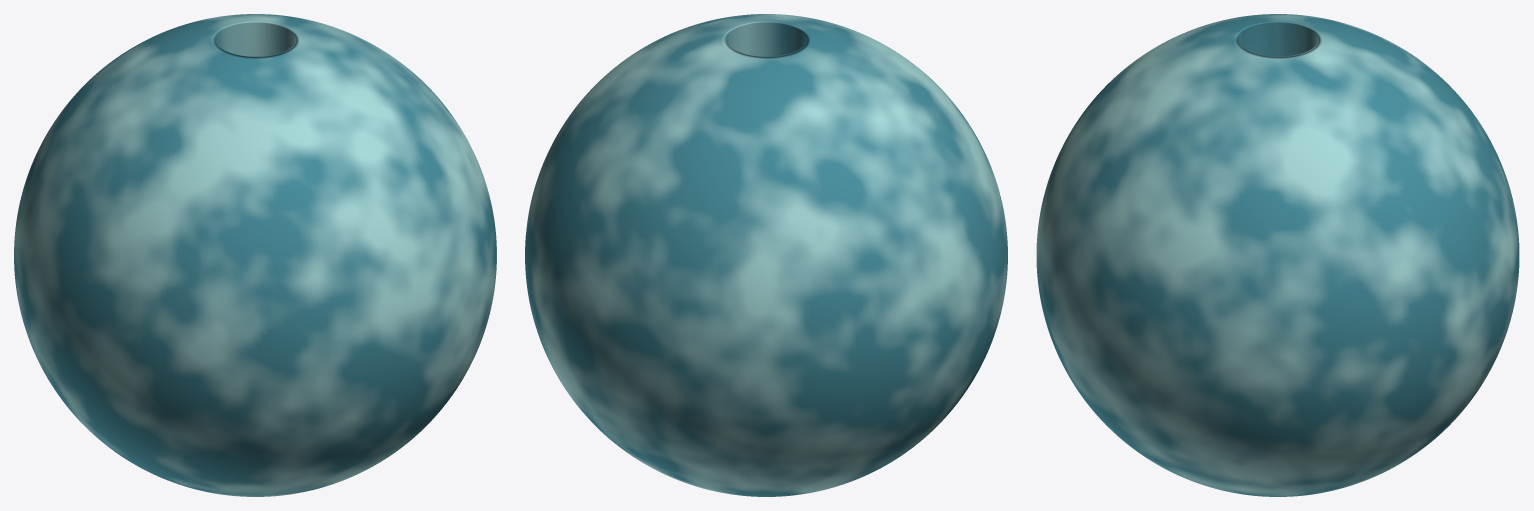
Rendered from round-6mm.glb.
The picture shows the model from 3 angles, left to right: view 1: azimuth 30°, elevation 25°; view 2: azimuth 150°, elevation 25°; view 3: azimuth 270°, elevation 25°; orthographic projection.
Visible parts, largest first — view 1: 圆珠; view 2: 圆珠; view 3: 圆珠.
Boxes of the visible parts, bbox=[...] form: 圆珠: bbox=[14, 14, 496, 496]; 圆珠: bbox=[525, 14, 1007, 496]; 圆珠: bbox=[1036, 14, 1519, 496].
Bounding box in the file's own units: 0.006 × 0.00592 × 0.006.
